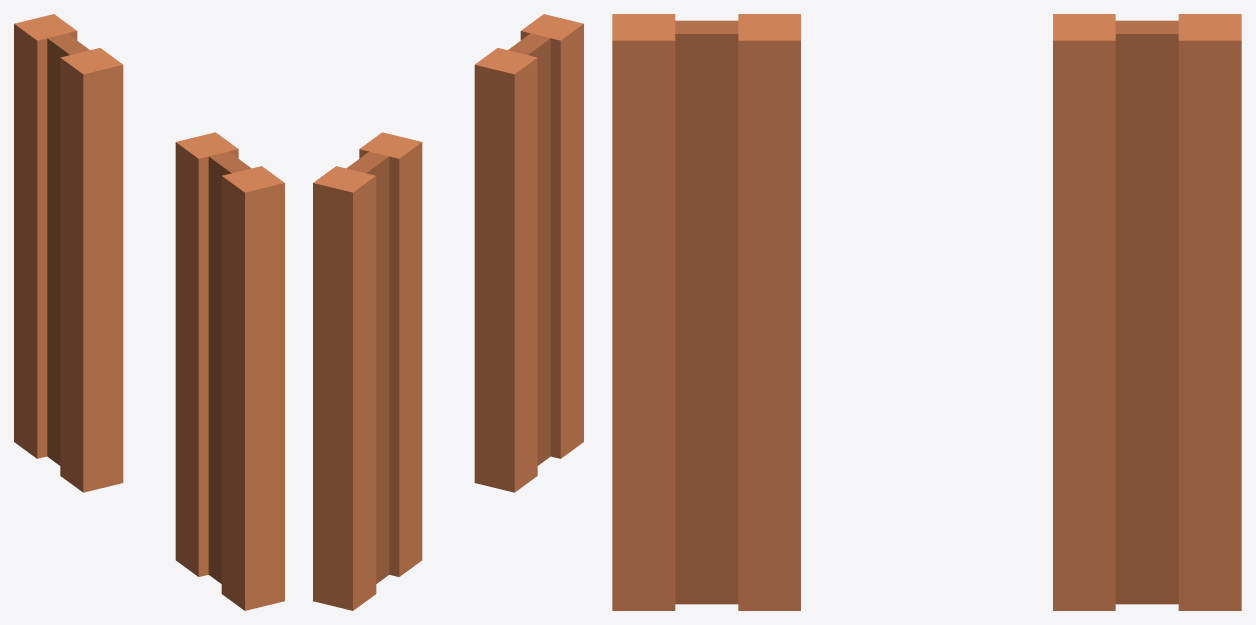
File: wallWoodDoorwayBase.fbx
3 views of the same model, side by side, from view 1: azimuth 30°, elevation 25°; view 2: azimuth 150°, elevation 25°; view 3: azimuth 270°, elevation 25° (orthographic). The views are drawn at different scales.
Visible parts, largest first — view 1: wallWoodDoorwayBase; view 2: wallWoodDoorwayBase; view 3: wallWoodDoorwayBase.
Boxes of the visible parts, x1=… form: wallWoodDoorwayBase: x1=14, y1=14, x2=284, y2=610; wallWoodDoorwayBase: x1=313, y1=14, x2=583, y2=610; wallWoodDoorwayBase: x1=612, y1=14, x2=1241, y2=610.
Size of the model in its own units: 1 by 10 by 10.
